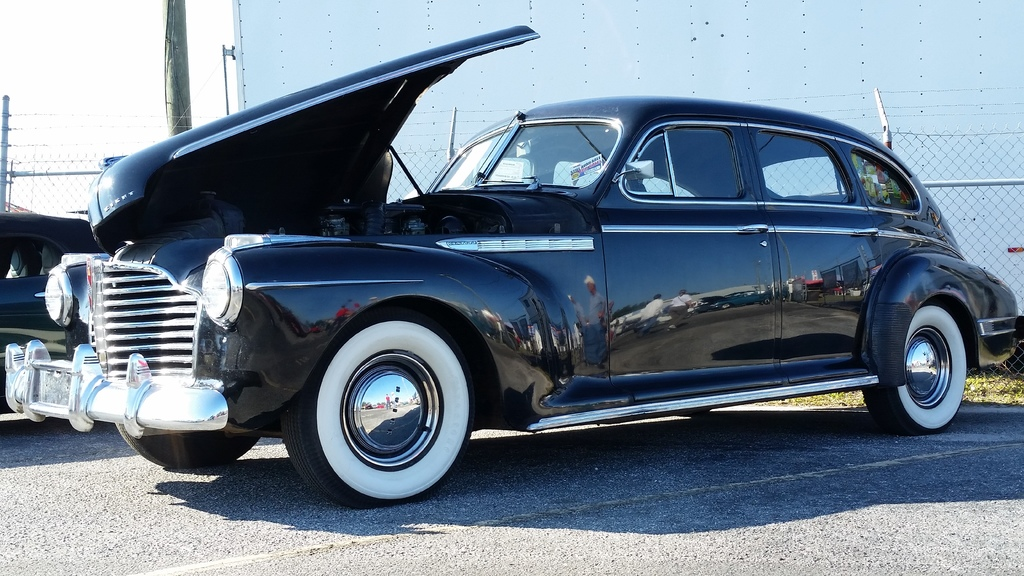cars: (6, 21, 1020, 514)
